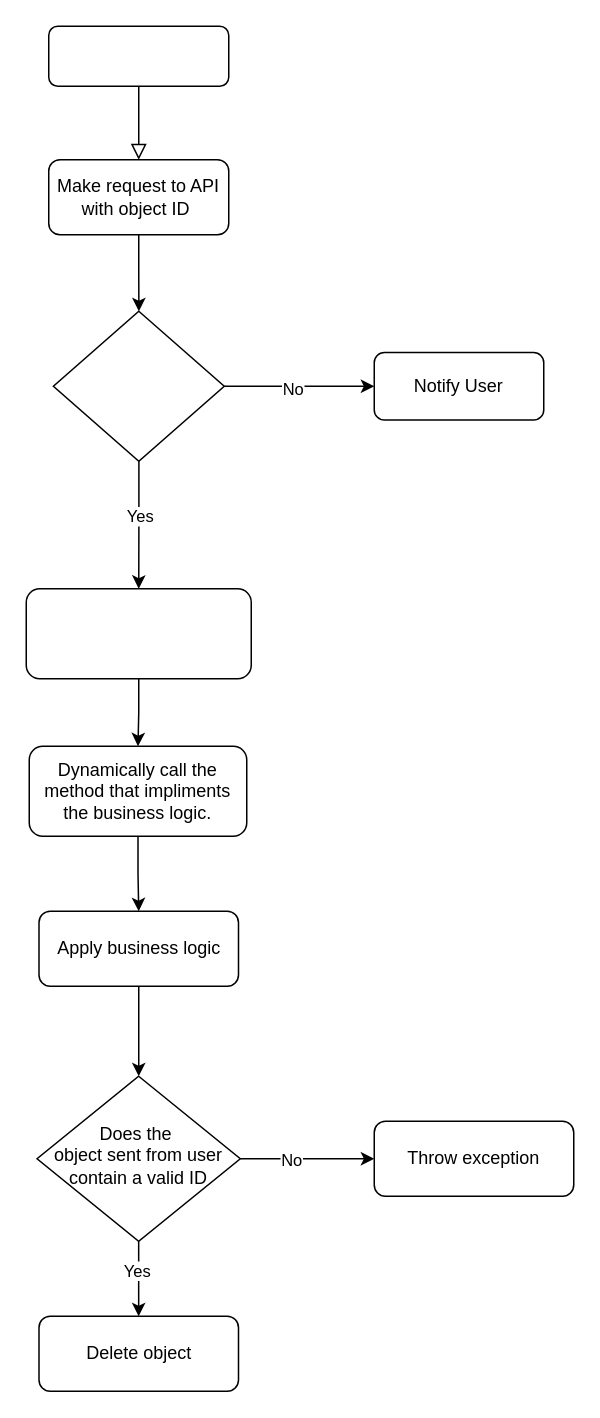
Some shapes in this 600 by 1418 pixel diagram are drawn without their labels. The centre of each missing label's shape, as x and y in pixels:
"Controller calls any necessary external APIs" belongs at [138,633].
"Is the user authorized to make action" belongs at [138,385].
"User select the object to be deleted" belongs at [138,55].
